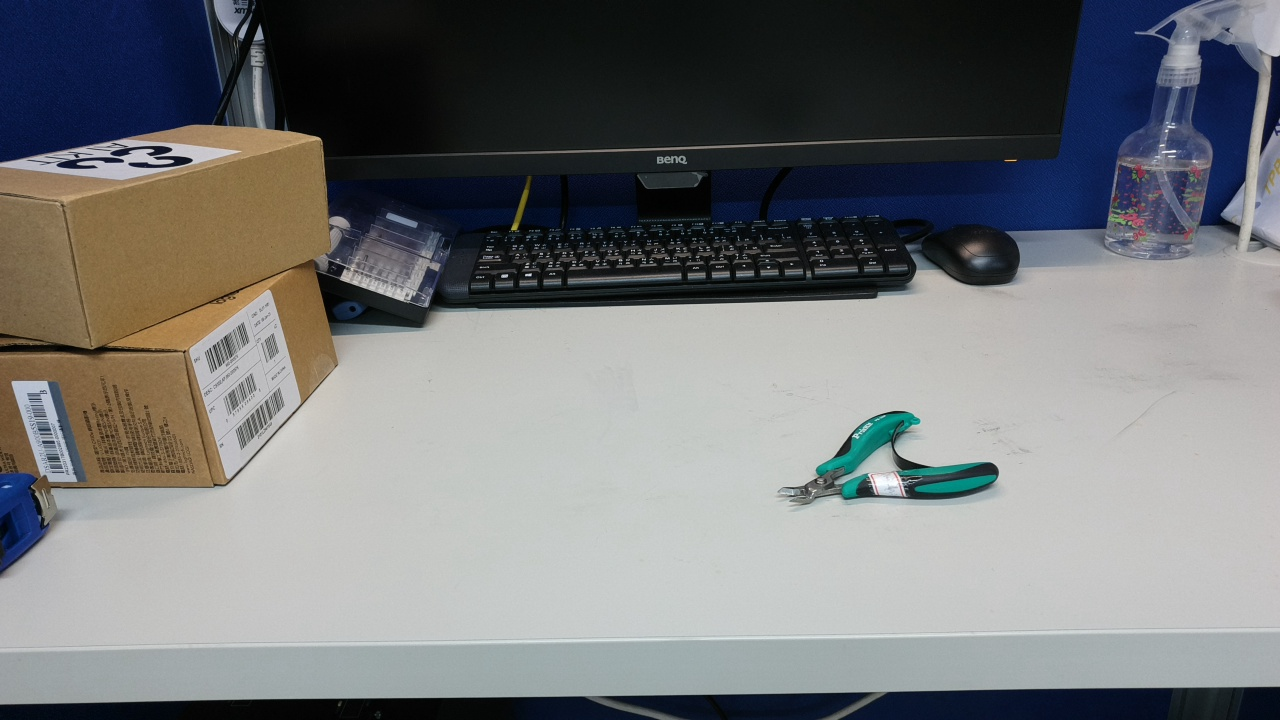columnar: (855, 200, 1098, 583)
